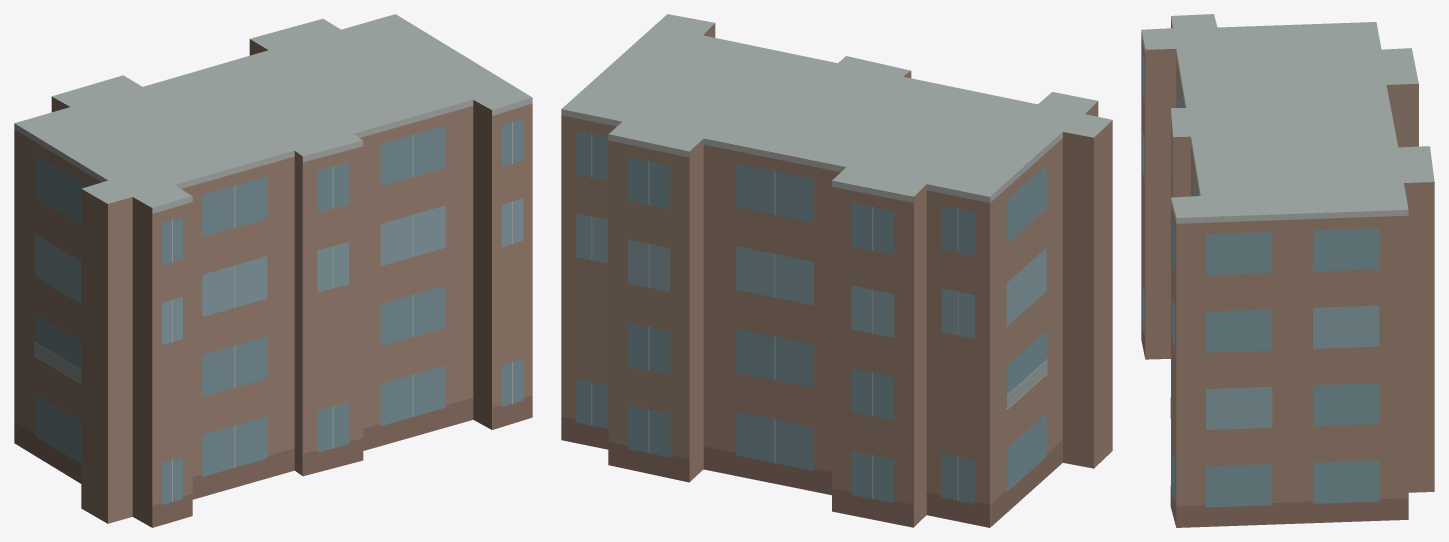
The model's file is survey-upis-33034052.glb.
3 renders of one model, left to right at view 1: azimuth 30°, elevation 25°; view 2: azimuth 150°, elevation 25°; view 3: azimuth 270°, elevation 25°, orthographic. The views are drawn at different scales.
Parts seen in each view (by area): view 1: survey-upis-33034052.tmp; view 2: survey-upis-33034052.tmp; view 3: survey-upis-33034052.tmp.
Part boxes in pixels (x1=…): survey-upis-33034052.tmp: x1=14, y1=14, x2=532, y2=527; survey-upis-33034052.tmp: x1=561, y1=14, x2=1112, y2=527; survey-upis-33034052.tmp: x1=1141, y1=14, x2=1434, y2=527.
Size of the model in its own units: 18.58 by 13.15 by 11.29.
